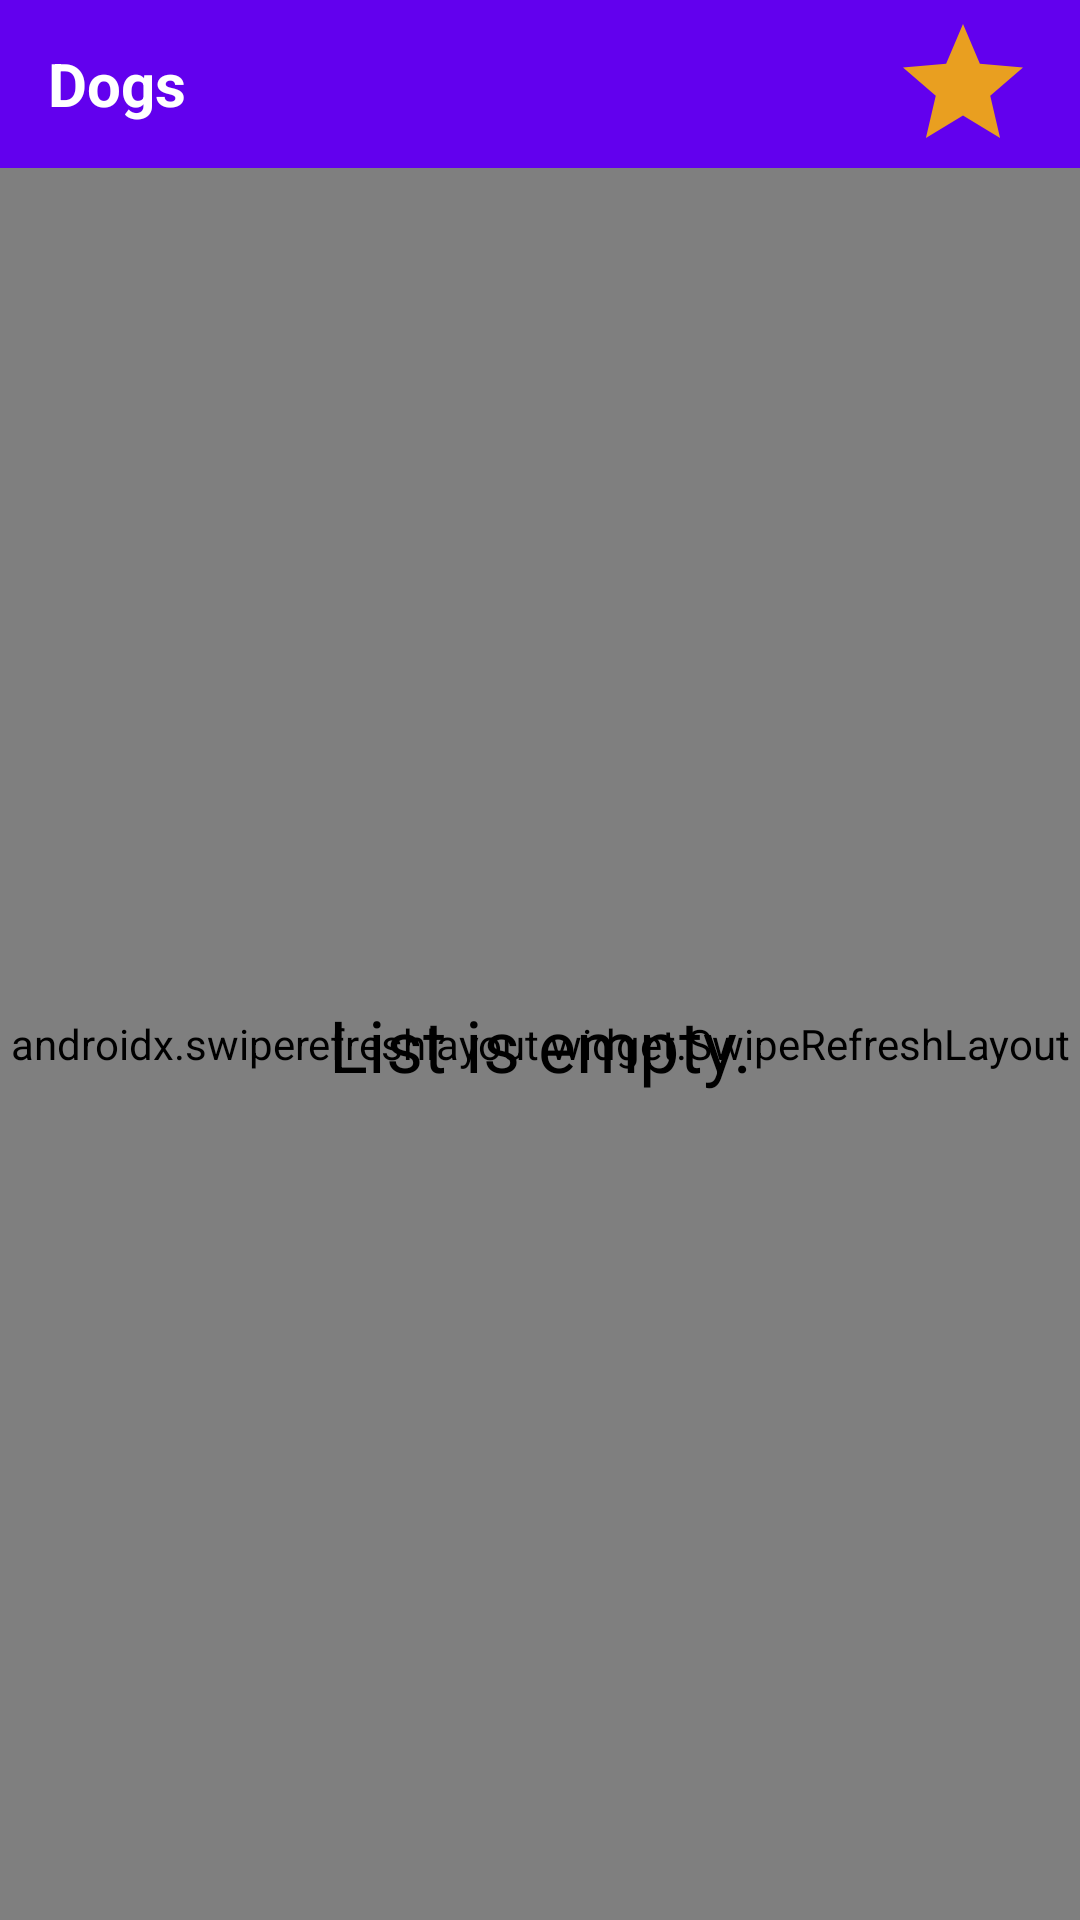

Screen size 1080px x 1920px. Icon name, then its box in pixels as box=[x1, y1, x2, y2]:
star: box=[903, 24, 1023, 138]
